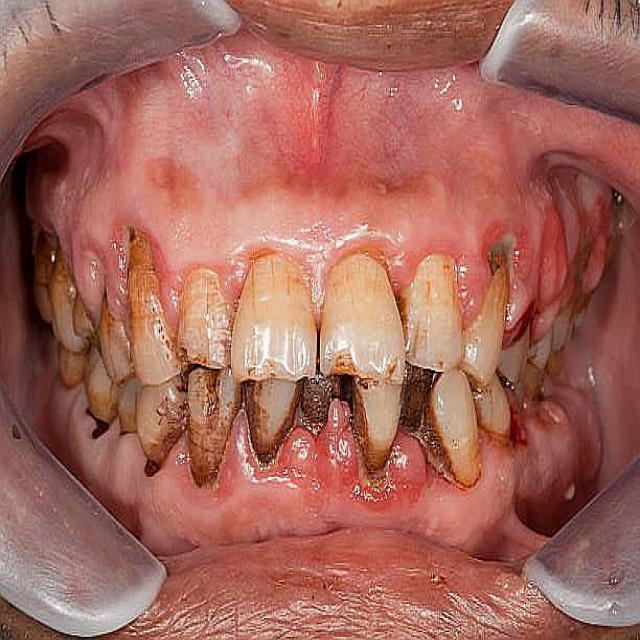caries: (243, 349, 296, 385), (330, 344, 378, 378), (138, 448, 172, 493), (82, 403, 114, 444), (175, 340, 209, 376)
